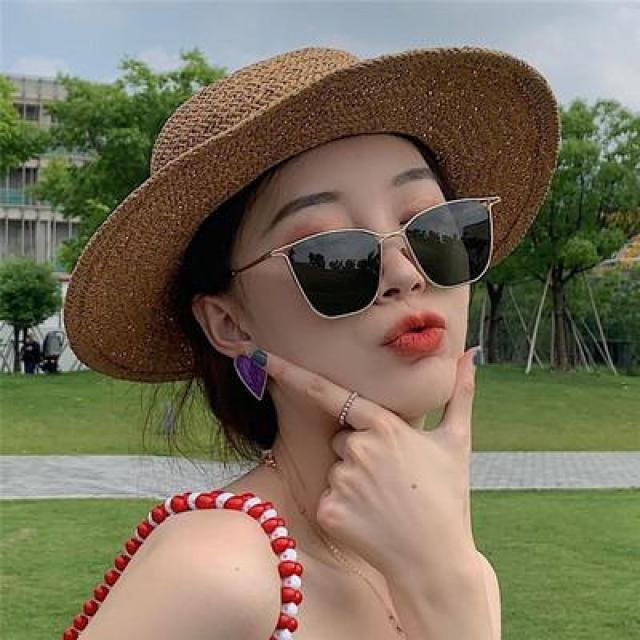hat: (59, 45, 563, 382)
